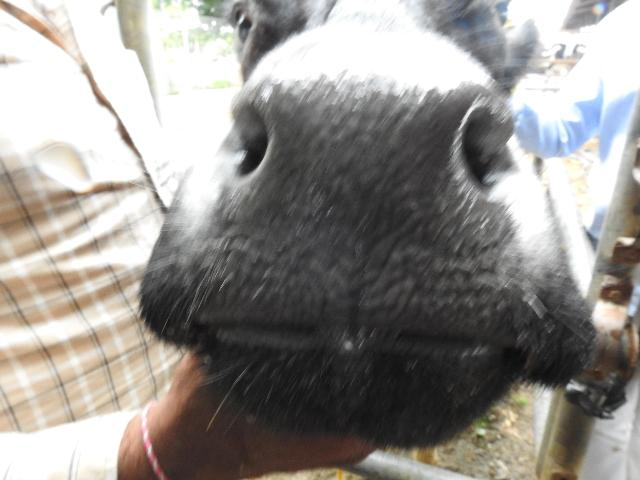Muzzle: (264, 74, 460, 316)
